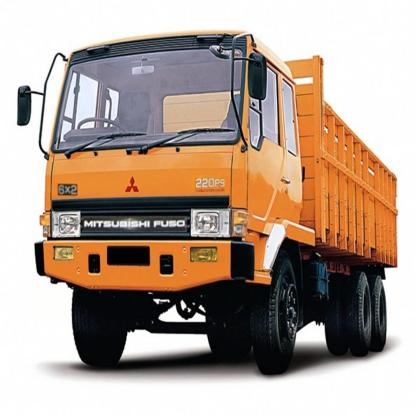truck: (18, 28, 399, 368)
